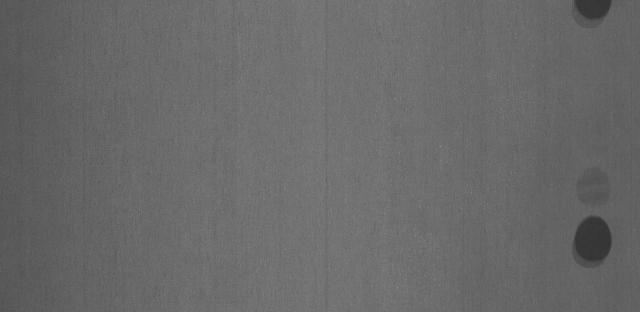oil_spot: (560, 216, 620, 269), (568, 164, 619, 208), (562, 0, 620, 31)
